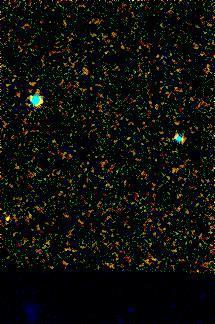star: (0, 203, 25, 233)
